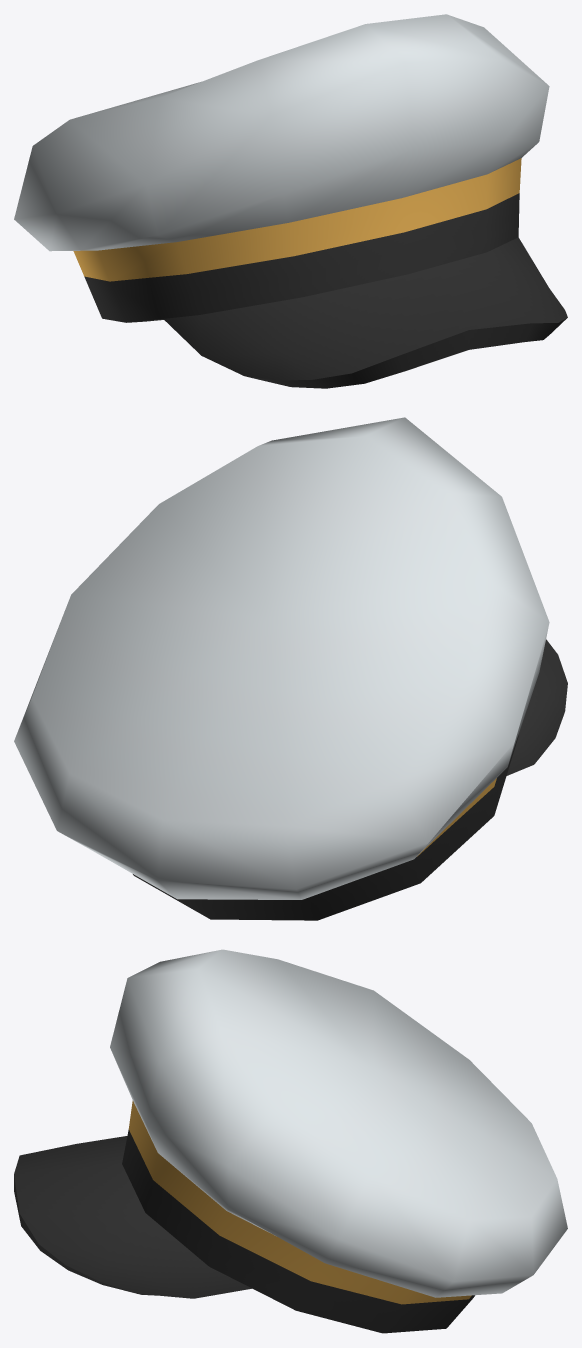
Rendered from Headgear_28.fbx.
The picture shows the model from 3 angles, top to bottom: view 1: azimuth 30°, elevation 25°; view 2: azimuth 150°, elevation 25°; view 3: azimuth 270°, elevation 25°; orthographic projection. The views are drawn at different scales.
Visible parts, largest first — view 1: Headgear_28; view 2: Headgear_28; view 3: Headgear_28.
Boxes of the visible parts, bbox=[...] form: Headgear_28: bbox=[14, 14, 567, 388]; Headgear_28: bbox=[14, 417, 567, 920]; Headgear_28: bbox=[14, 949, 567, 1333].
Bounding box in the file's own units: 77.7 × 59.99 × 91.62.
